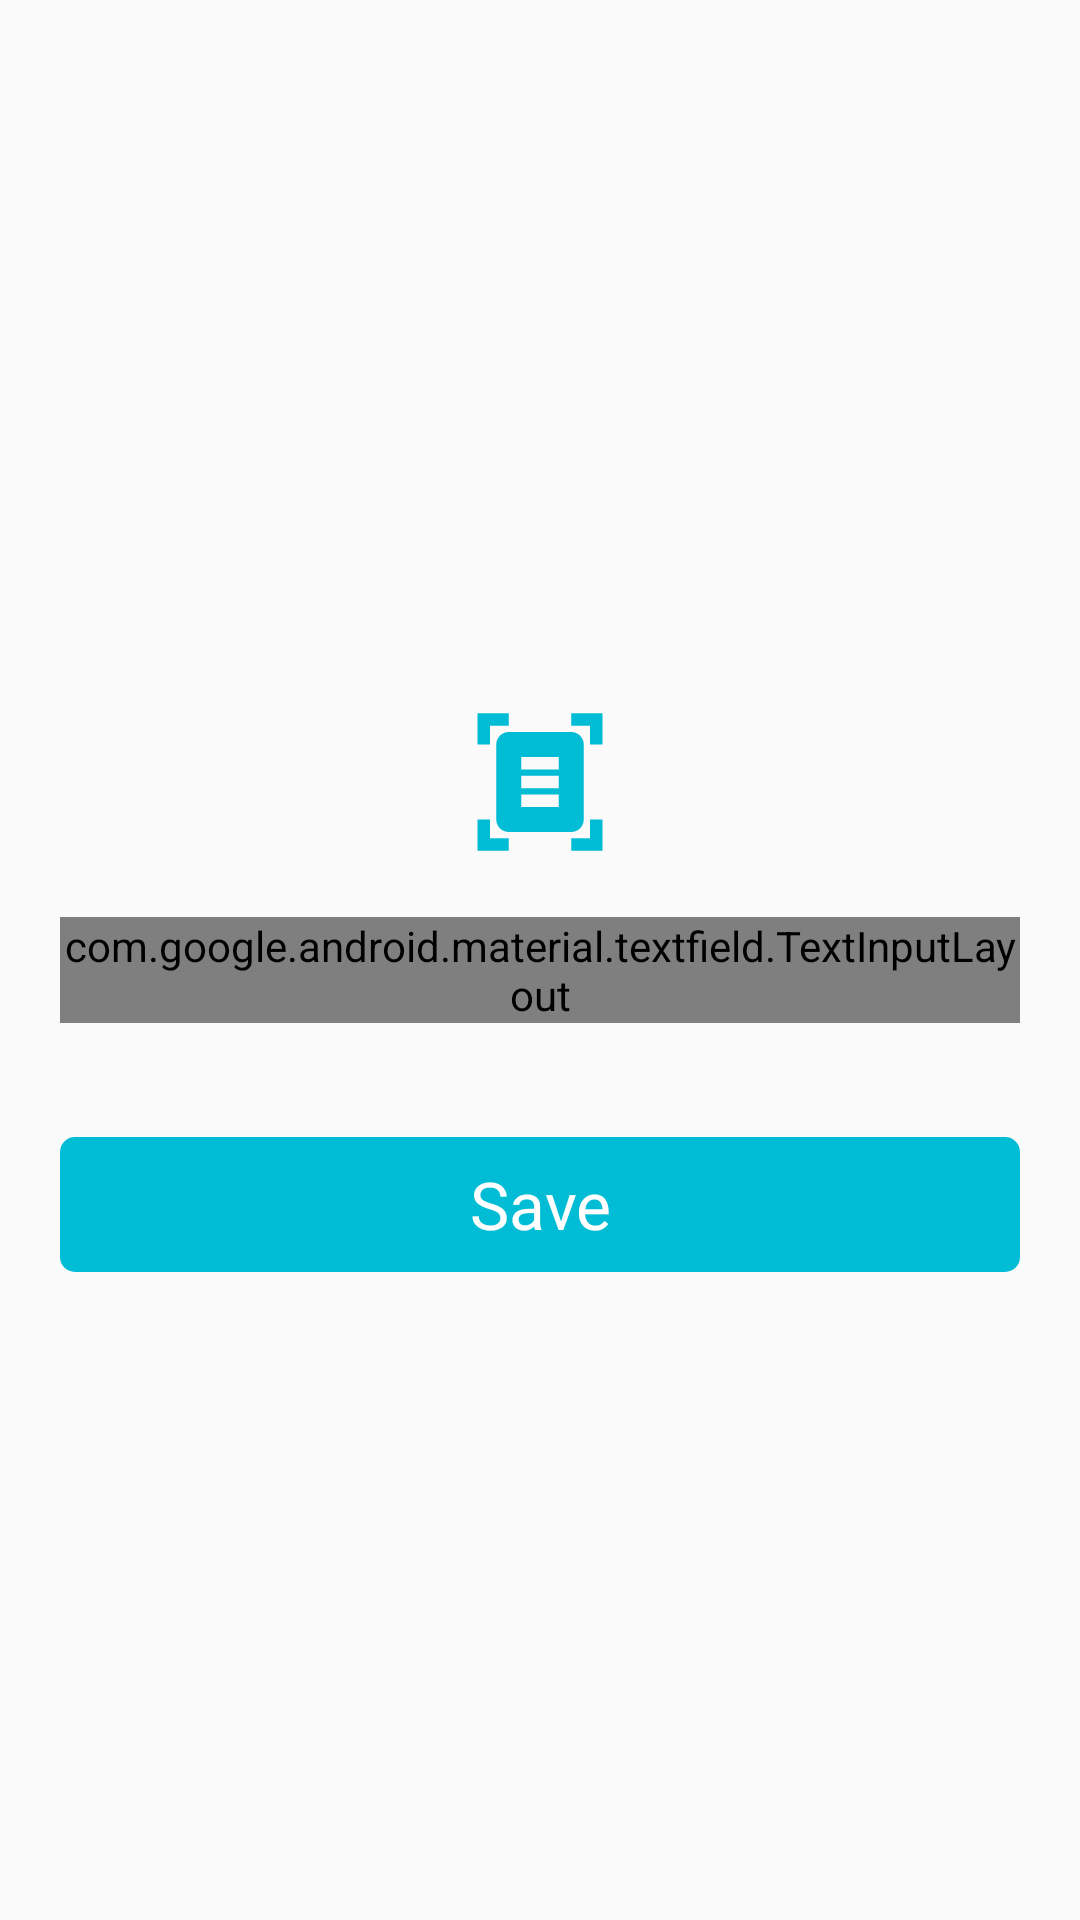

Named icons in this screenshot (1080 x 1920) and their centers, [x,y]:
scancontact: [540,782]
